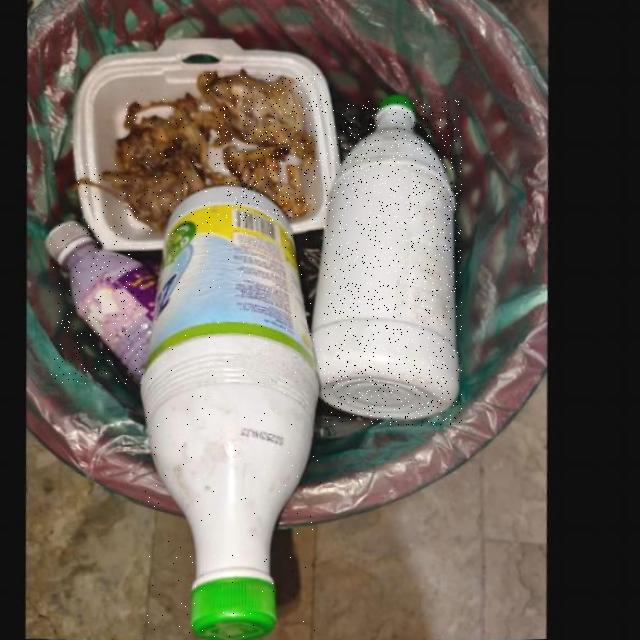biowaste: (204, 73, 321, 172), (77, 162, 211, 234), (123, 96, 214, 178), (226, 147, 316, 220)
plastic: (144, 189, 324, 640), (314, 100, 462, 425), (49, 223, 161, 384)
